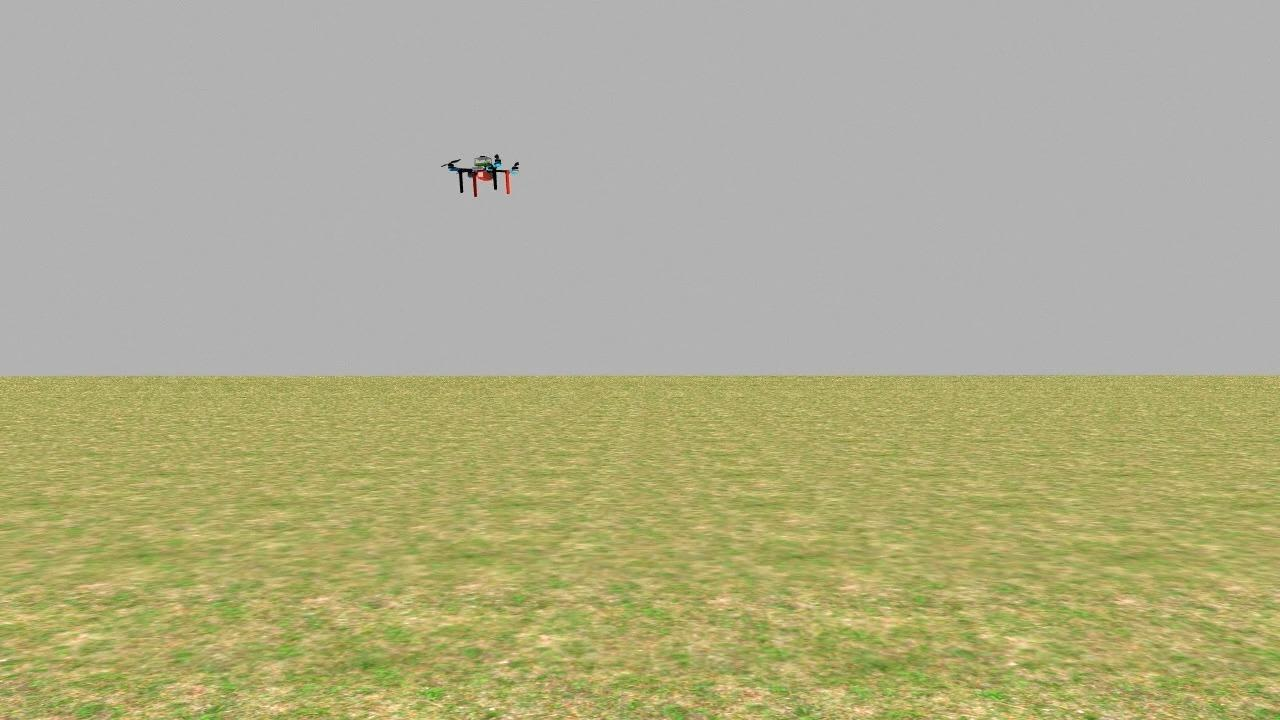UAV: (416, 120, 544, 218)
